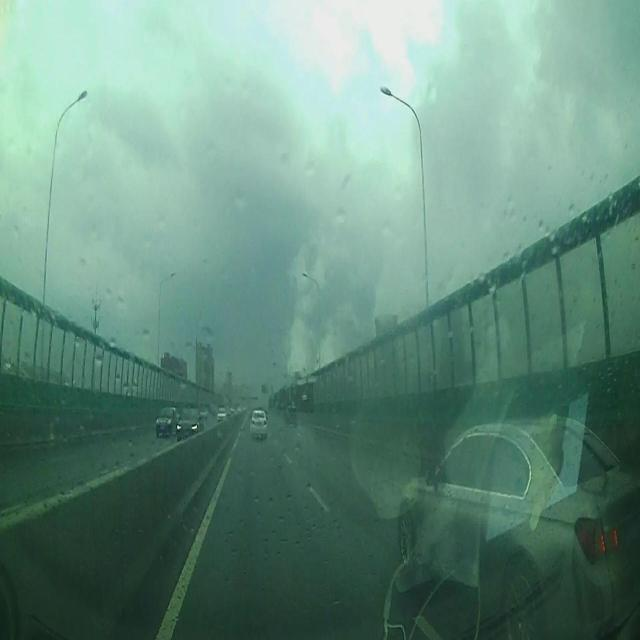car: (396, 416, 638, 634), (175, 408, 202, 439), (154, 408, 178, 437), (250, 408, 268, 436), (216, 406, 226, 426)
